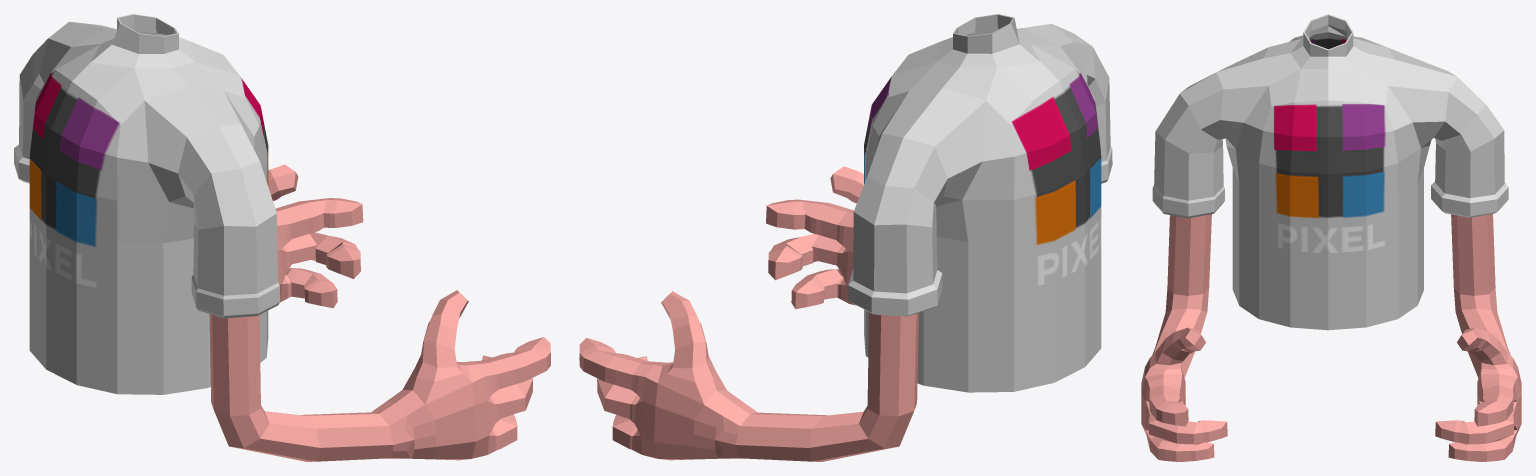
File: Beto.obj
The picture shows the model from 3 angles, left to right: view 1: azimuth 30°, elevation 25°; view 2: azimuth 150°, elevation 25°; view 3: azimuth 270°, elevation 25°; orthographic projection. The views are drawn at different scales.
Visible parts, largest first — view 1: Camisa_Cube.002, Mao_E.001_Cube.019, Mao_E_Cube.013; view 2: Camisa_Cube.002, Mao_E_Cube.013, Mao_E.001_Cube.019; view 3: Camisa_Cube.002, Mao_E_Cube.013, Mao_E.001_Cube.019.
Boxes of the visible parts, left/top/right/bottom form: Camisa_Cube.002: left=14, top=14, right=279, bottom=394; Mao_E.001_Cube.019: left=209, top=290, right=550, bottom=461; Mao_E_Cube.013: left=268, top=164, right=363, bottom=308; Camisa_Cube.002: left=848, top=14, right=1112, bottom=392; Mao_E_Cube.013: left=579, top=291, right=918, bottom=461; Mao_E.001_Cube.019: left=766, top=166, right=863, bottom=309; Camisa_Cube.002: left=1152, top=14, right=1508, bottom=330; Mao_E_Cube.013: left=1435, top=214, right=1521, bottom=461; Mao_E.001_Cube.019: left=1141, top=214, right=1227, bottom=461.
Bounding box in the file's own units: 1.57 × 1.54 × 1.57.
